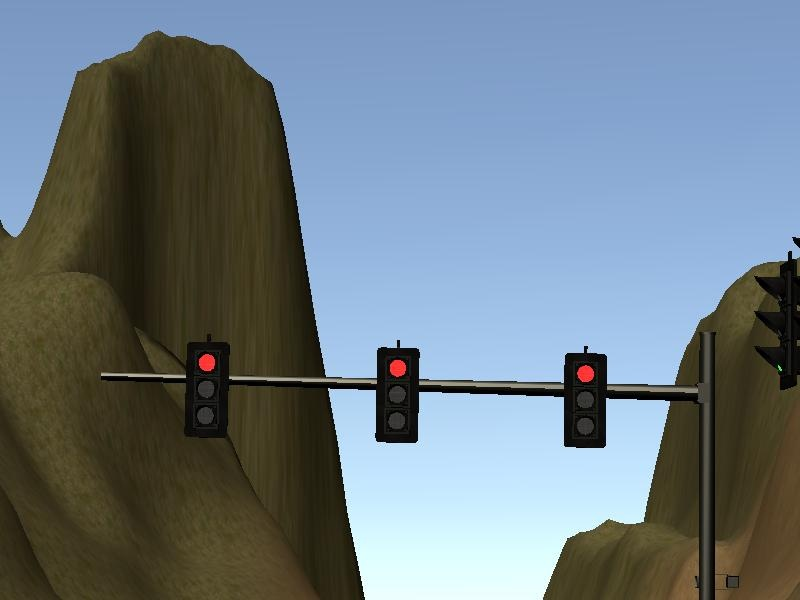red: (563, 349, 610, 452), (374, 345, 421, 448), (185, 340, 232, 443)
